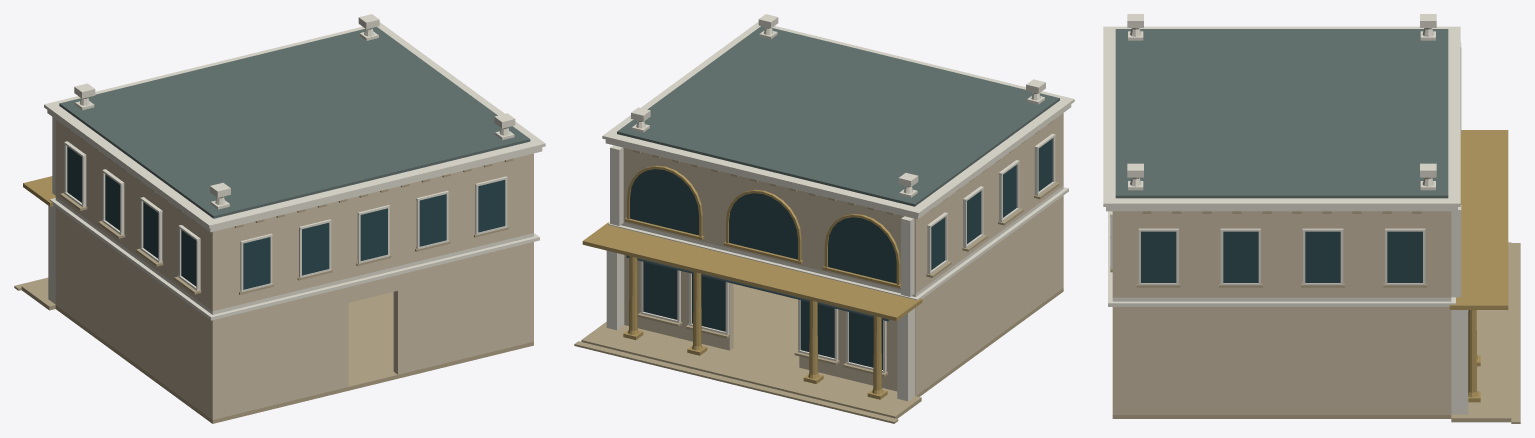
The model's file is KOL_T25_JEWELLERY.fbx.
3 views of the same model, side by side, from view 1: azimuth 30°, elevation 25°; view 2: azimuth 150°, elevation 25°; view 3: azimuth 270°, elevation 25° (orthographic). The views are drawn at different scales.
Visible parts, largest first — view 1: KOL_T25_JEWELLERY__Body, KOL_T25_JEWELLERY__Roof, KOL_T25_JEWELLERY__Trim, KOL_T25_JEWELLERY__Glass, KOL_T25_JEWELLERY__Stone, KOL_T25_JEWELLERY__Gold; view 2: KOL_T25_JEWELLERY__Roof, KOL_T25_JEWELLERY__Body, KOL_T25_JEWELLERY__Trim, KOL_T25_JEWELLERY__Glass, KOL_T25_JEWELLERY__Stone, KOL_T25_JEWELLERY__Gold, KOL_T25_JEWELLERY__Metal; view 3: KOL_T25_JEWELLERY__Body, KOL_T25_JEWELLERY__Roof, KOL_T25_JEWELLERY__Trim, KOL_T25_JEWELLERY__Gold, KOL_T25_JEWELLERY__Stone, KOL_T25_JEWELLERY__Glass.
Boxes of the visible parts, box(x1,y1,x2,y2) form: KOL_T25_JEWELLERY__Body: box(55, 119, 533, 419); KOL_T25_JEWELLERY__Roof: box(59, 27, 530, 218); KOL_T25_JEWELLERY__Trim: box(44, 14, 545, 320); KOL_T25_JEWELLERY__Glass: box(67, 146, 505, 289); KOL_T25_JEWELLERY__Stone: box(14, 127, 533, 423); KOL_T25_JEWELLERY__Gold: box(23, 176, 55, 206); KOL_T25_JEWELLERY__Roof: box(617, 26, 1059, 206); KOL_T25_JEWELLERY__Body: box(623, 113, 1063, 395); KOL_T25_JEWELLERY__Trim: box(602, 14, 1074, 401); KOL_T25_JEWELLERY__Glass: box(630, 138, 1052, 369); KOL_T25_JEWELLERY__Stone: box(574, 121, 1063, 423); KOL_T25_JEWELLERY__Gold: box(582, 165, 922, 399); KOL_T25_JEWELLERY__Metal: box(626, 255, 890, 321); KOL_T25_JEWELLERY__Body: box(1112, 211, 1451, 414); KOL_T25_JEWELLERY__Roof: box(1115, 29, 1448, 198); KOL_T25_JEWELLERY__Trim: box(1103, 14, 1468, 414); KOL_T25_JEWELLERY__Gold: box(1449, 130, 1508, 402); KOL_T25_JEWELLERY__Stone: box(1110, 211, 1520, 423); KOL_T25_JEWELLERY__Glass: box(1141, 231, 1422, 282).
Bounding box in the file's own units: 55 × 34.7 × 54.2.
